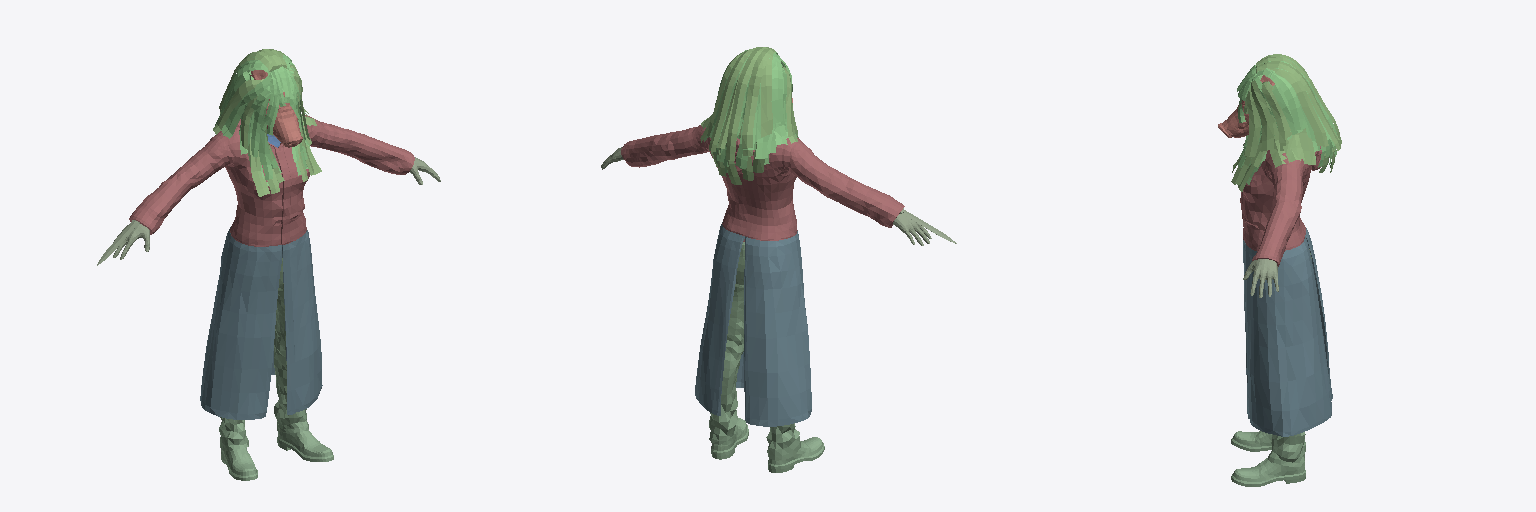
The picture shows the model from 3 angles: view 1: azimuth 30°, elevation 25°; view 2: azimuth 150°, elevation 25°; view 3: azimuth 270°, elevation 25°; orthographic projection.
Parts seen in each view (by area): view 1: 40_Skirt, 40_Torso, 40_Legs, 7_Hair1, 7_Hair2, 40_Weapon, 40_Mask; view 2: 40_Skirt, 40_Torso, 7_Hair2, 40_Legs, 7_Hair1, 40_Weapon; view 3: 40_Skirt, 7_Hair2, 40_Torso, 40_Legs, 7_Hair1, 40_Weapon, 40_Mask.
Boxes of the visible parts, <box> form: 40_Skirt: <box>200,227,322,419</box>; 40_Torso: <box>129,115,414,246</box>; 40_Legs: <box>219,258,333,480</box>; 7_Hair1: <box>215,55,310,185</box>; 7_Hair2: <box>213,49,321,196</box>; 40_Weapon: <box>97,157,440,265</box>; 40_Mask: <box>250,70,302,147</box>; 40_Skirt: <box>695,222,811,426</box>; 40_Torso: <box>621,125,904,241</box>; 7_Hair2: <box>700,47,798,184</box>; 40_Legs: <box>709,242,824,472</box>; 7_Hair1: <box>704,50,797,172</box>; 40_Weapon: <box>601,147,956,245</box>; 40_Skirt: <box>1243,228,1332,436</box>; 7_Hair2: <box>1231,54,1341,191</box>; 40_Torso: <box>1240,146,1321,266</box>; 40_Legs: <box>1231,249,1311,486</box>; 7_Hair1: <box>1237,58,1337,184</box>; 40_Weapon: <box>1243,143,1278,297</box>; 40_Mask: <box>1218,75,1274,137</box>.
Size of the model in its own units: 1.39 by 1.55 by 0.4311.